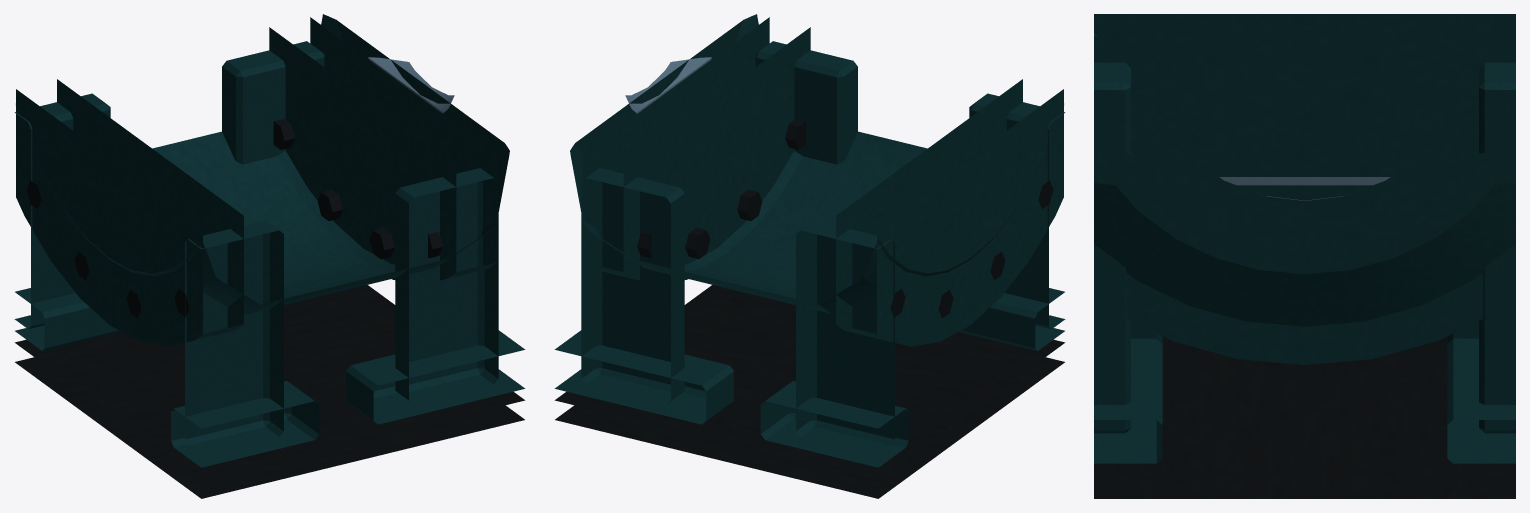
File: cell_7.obj
3 views of the same model, side by side, from view 1: azimuth 30°, elevation 25°; view 2: azimuth 150°, elevation 25°; view 3: azimuth 270°, elevation 25° (orthographic). The views are drawn at different scales.
Visible parts, largest first — view 1: cell_7; view 2: cell_7; view 3: cell_7.
Part boxes in pixels (left/top/right/bottom): cell_7: left=14, top=14, right=525, bottom=498; cell_7: left=554, top=14, right=1065, bottom=498; cell_7: left=1094, top=14, right=1515, bottom=498.
Bounding box in the file's own units: 1 × 0.8045 × 1.
